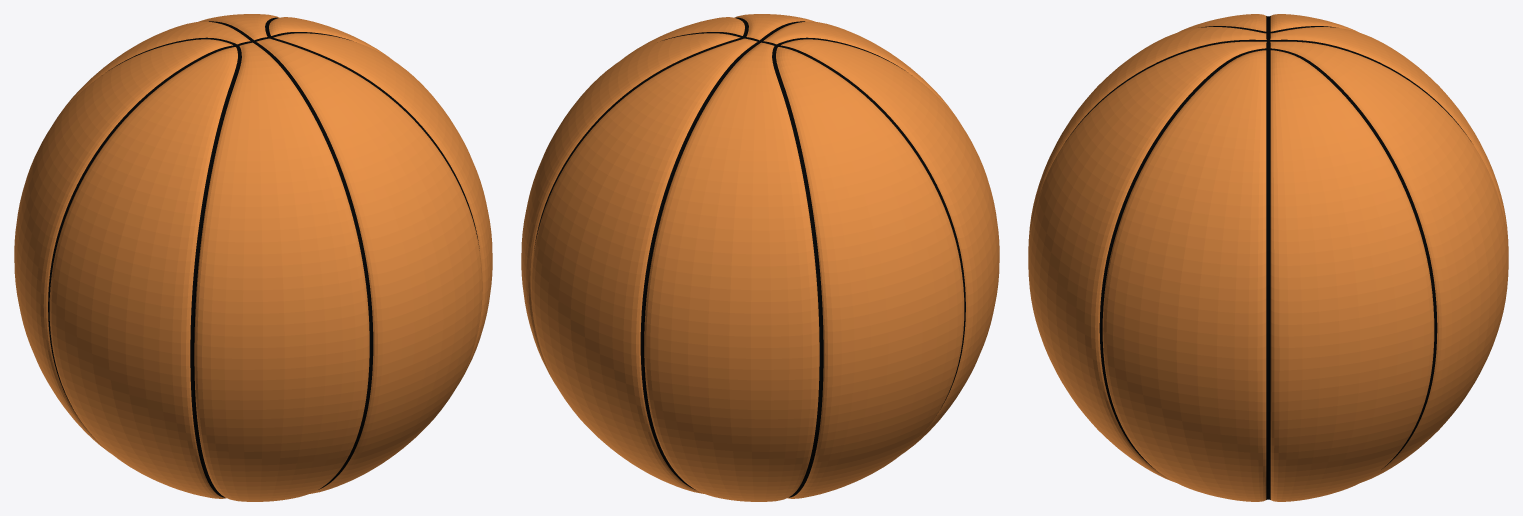
The model's file is bball.fbx.
The picture shows the model from 3 angles, left to right: view 1: azimuth 30°, elevation 25°; view 2: azimuth 150°, elevation 25°; view 3: azimuth 270°, elevation 25°; orthographic projection.
Parts seen in each view (by area): view 1: Sphere; view 2: Sphere; view 3: Sphere.
Part boxes in pixels (x1,y1,x2,y2): Sphere: (14, 14, 492, 501); Sphere: (521, 14, 999, 501); Sphere: (1028, 14, 1508, 501).
Bounding box in the file's own units: 194 × 196 × 194.
